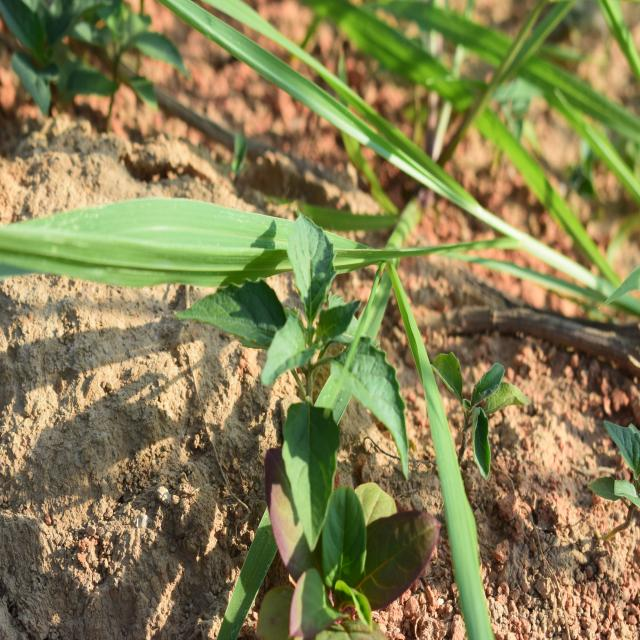Black_nightshade: (218, 219, 403, 518)
